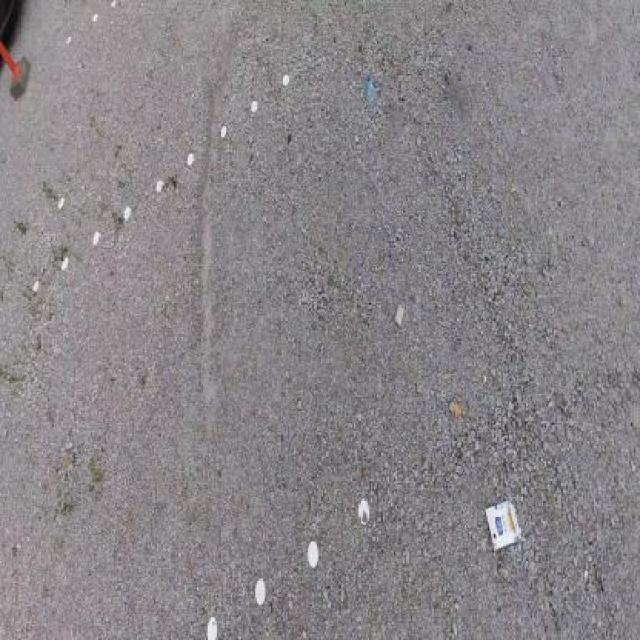Garbage: (484, 498, 520, 551), (366, 75, 378, 111), (394, 303, 404, 327)
